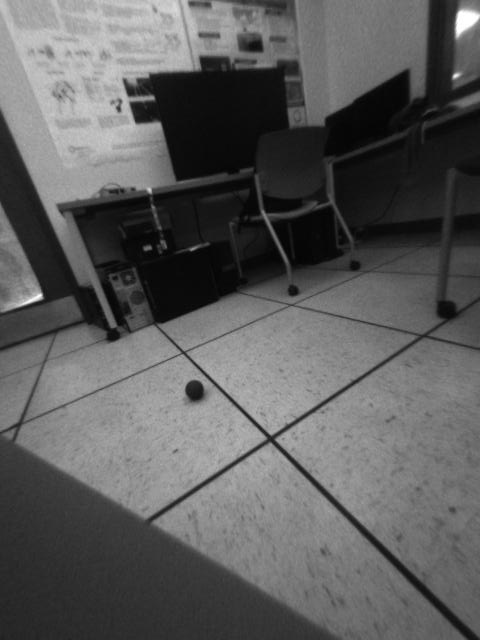dogtoy: (177, 372, 213, 403)
